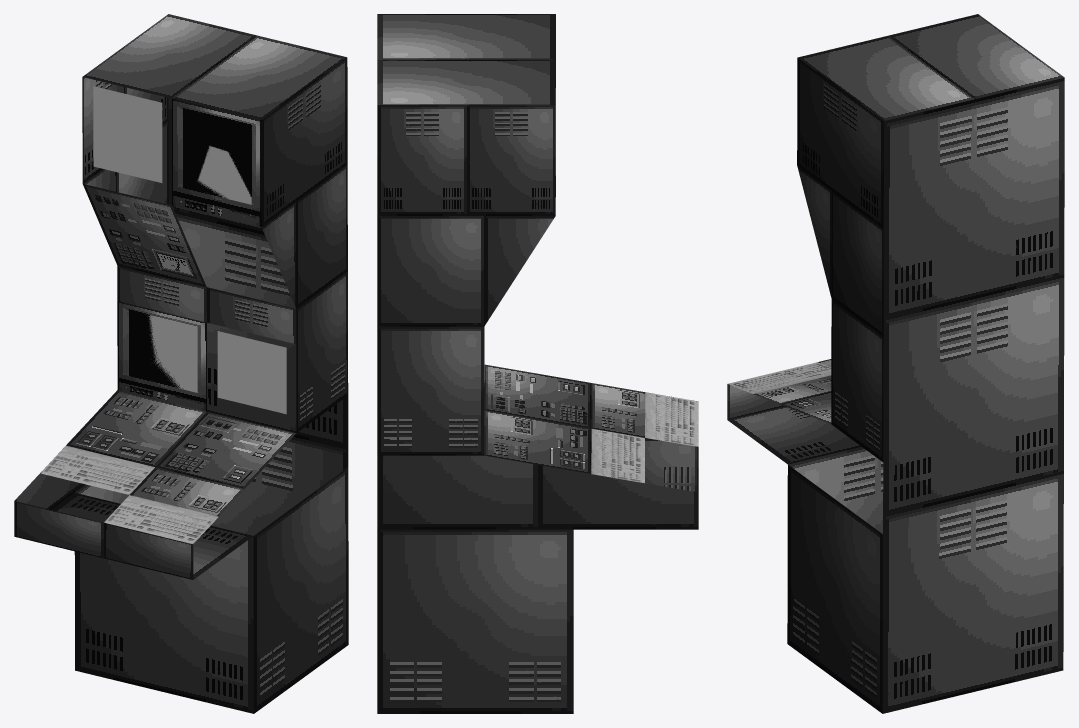
Rendered from primary_152.glb.
3 renders of one model, left to right at view 1: azimuth 30°, elevation 25°; view 2: azimuth 150°, elevation 25°; view 3: azimuth 270°, elevation 25°, orthographic. The views are drawn at different scales.
Visible parts, largest first — view 1: Object; view 2: Object; view 3: Object.
Part boxes in pixels (x1,y1,x2,y2): Object: [14, 14, 348, 713]; Object: [377, 14, 698, 713]; Object: [727, 14, 1064, 713].
Size of the model in its own units: 1.75 by 3.05 by 1.57.
26 materials, 26 textured.
